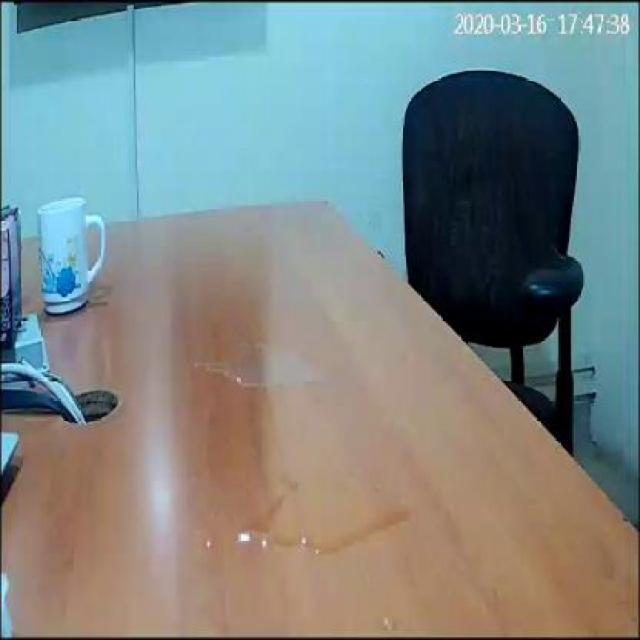spill: (239, 477, 407, 555), (228, 347, 328, 387)
